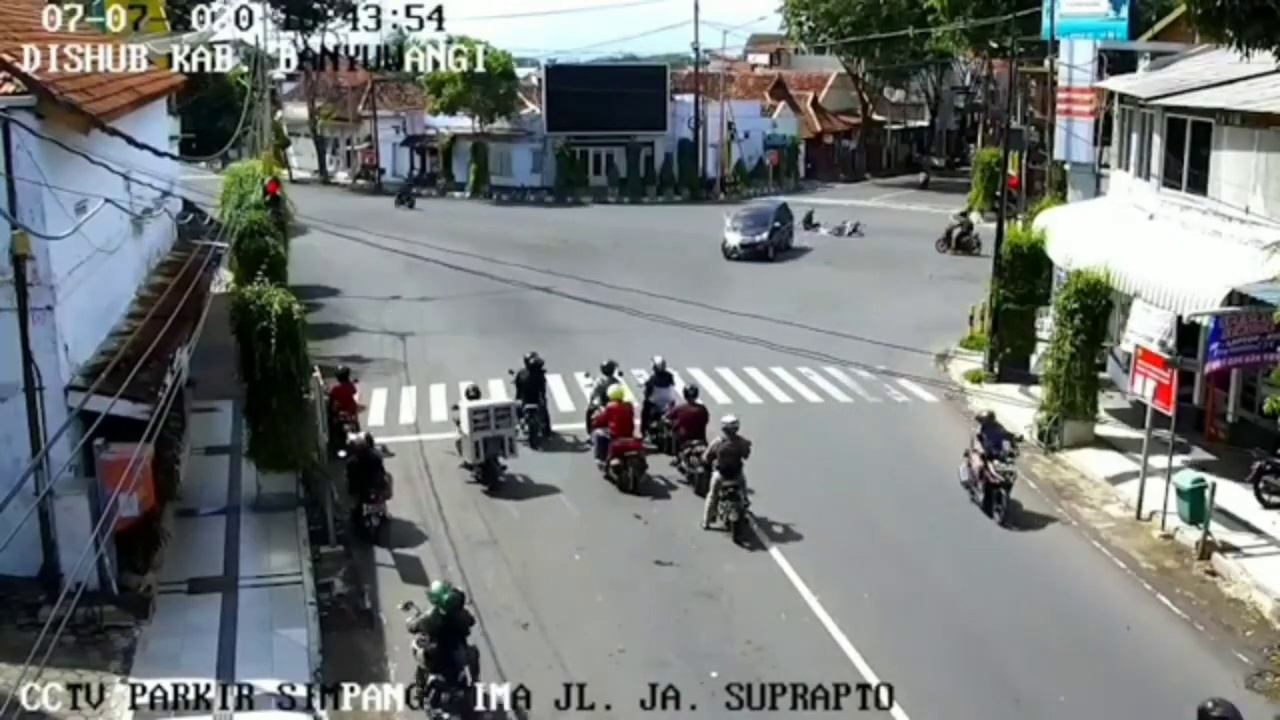car: (727, 198, 795, 268)
motorbike: (403, 584, 482, 716), (453, 381, 521, 498), (708, 416, 758, 549), (968, 416, 1023, 531), (594, 384, 648, 498), (347, 440, 399, 543), (673, 386, 712, 499), (519, 352, 558, 451), (329, 364, 367, 461), (589, 362, 626, 452), (644, 357, 677, 448), (937, 208, 987, 261), (393, 179, 421, 212)
